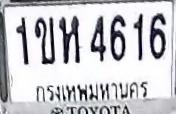1: (15, 16, 28, 66), (132, 14, 144, 60)
4: (90, 14, 106, 62)
6: (149, 12, 166, 59), (110, 14, 126, 61)
A02: (34, 16, 55, 64)
A41: (58, 15, 80, 63)
BKK: (32, 79, 151, 102)
